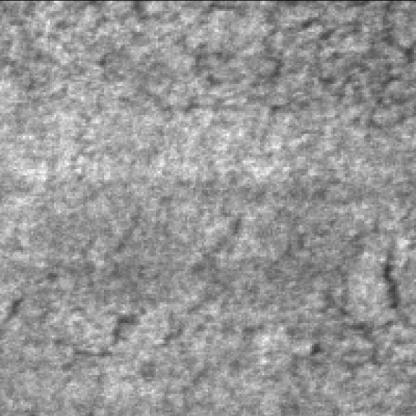crazing: (81, 4, 412, 160), (4, 204, 256, 408), (289, 218, 414, 412)
